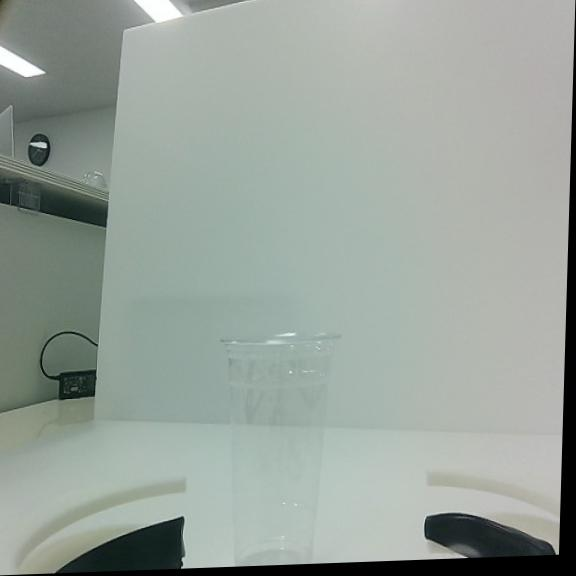Plastik: (226, 334, 337, 565)
